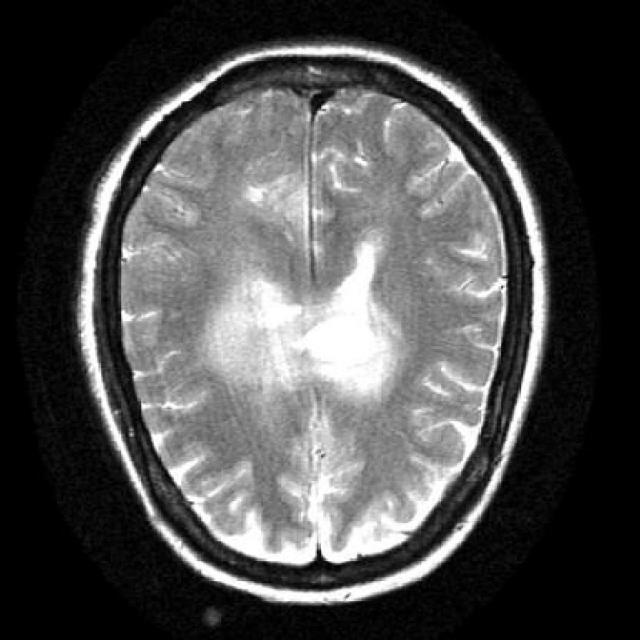Brain-Tumor: (304, 223, 424, 415)
